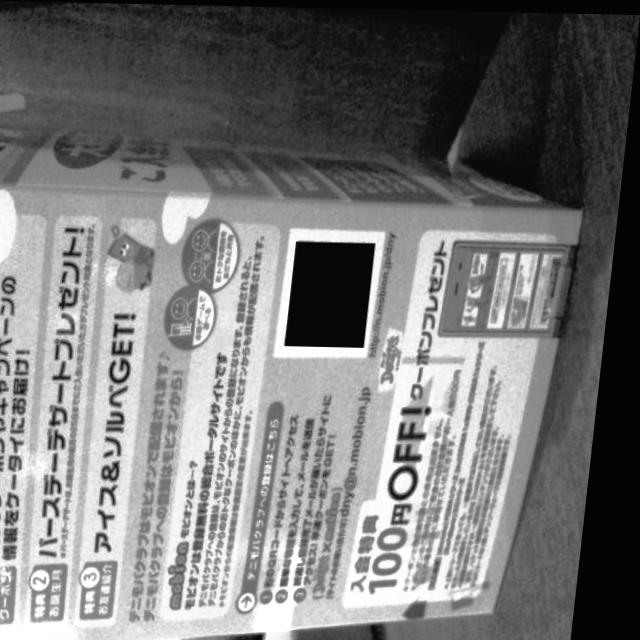qr_code: (292, 239, 381, 345)
